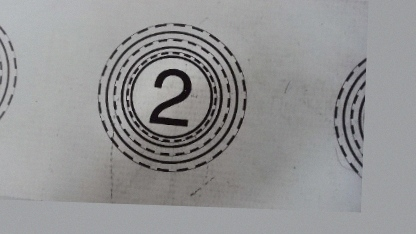2r: (92, 18, 250, 175)
